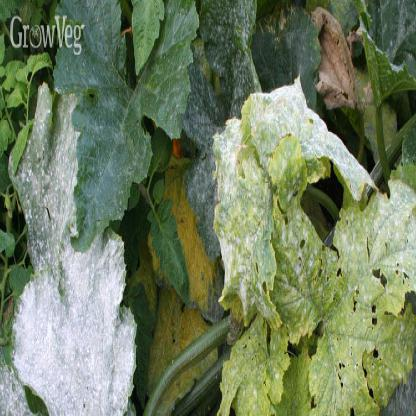squash powdery mildew leaf: (211, 67, 415, 315), (2, 73, 143, 415)
